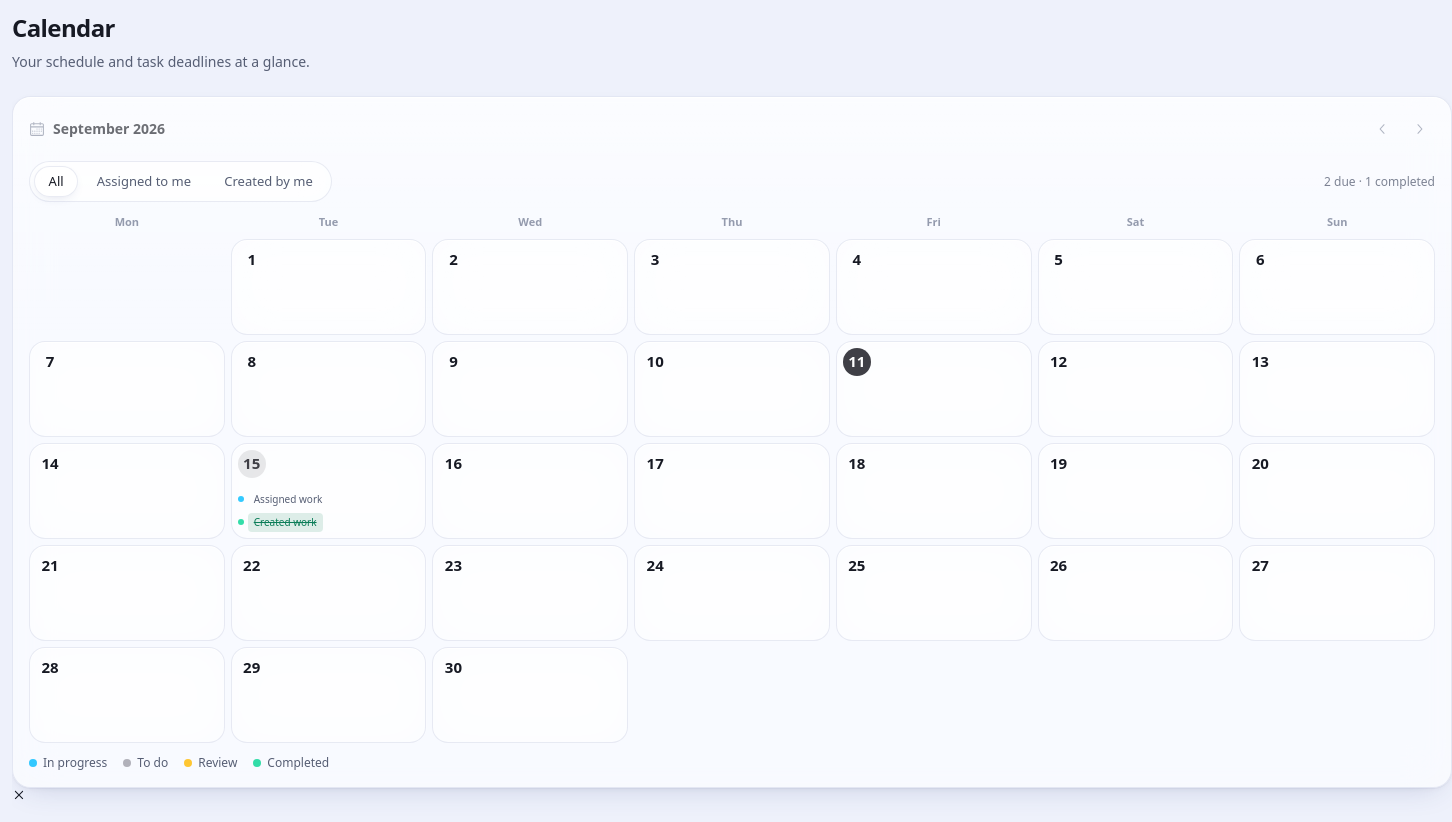
CalendarView › filters to tasks I created
Click the button "Created by me" at point(269, 182), box x1=210 y1=166 x2=328 y2=197
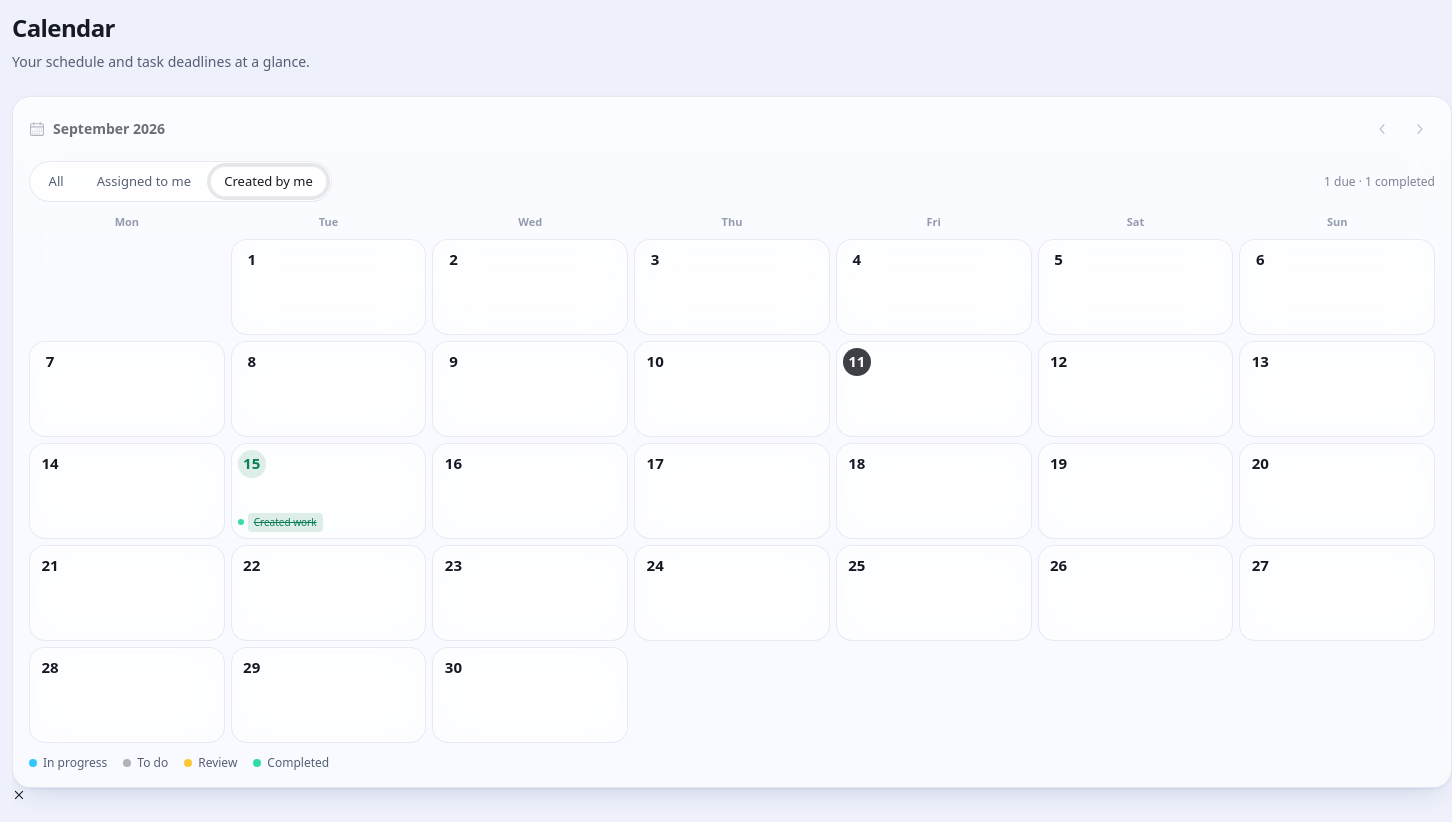
Expected: the text "Created work" is shown, x1=248 y1=513 x2=323 y2=532
Expected: the text "Assigned work" is gone
